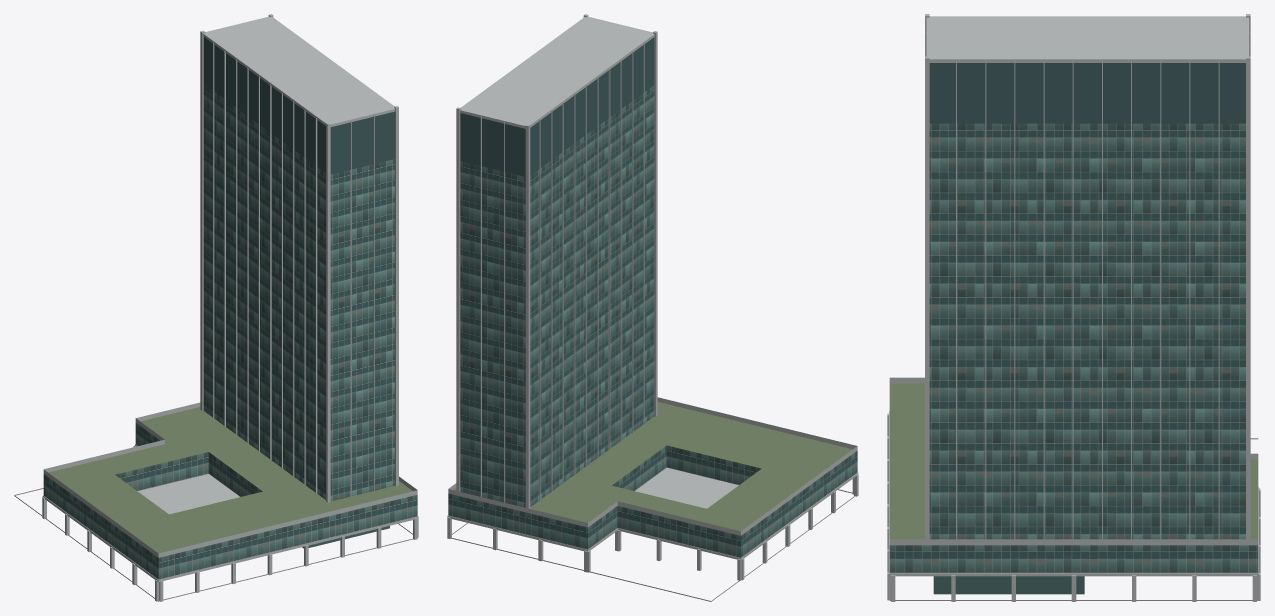
File: lever_house.glb
3 renders of one model, left to right at view 1: azimuth 30°, elevation 25°; view 2: azimuth 150°, elevation 25°; view 3: azimuth 270°, elevation 25°, orthographic. The views are drawn at different scales.
Parts seen in each view (by area): view 1: lever_house; view 2: lever_house; view 3: lever_house.
Part boxes in pixels (x1,y1,x2,y2): lever_house: (14,14,418,601); lever_house: (447,14,858,601); lever_house: (887,14,1260,601).
Size of the model in its own units: 61.5 by 94.6 by 59.31.
2 materials, 2 textured.
